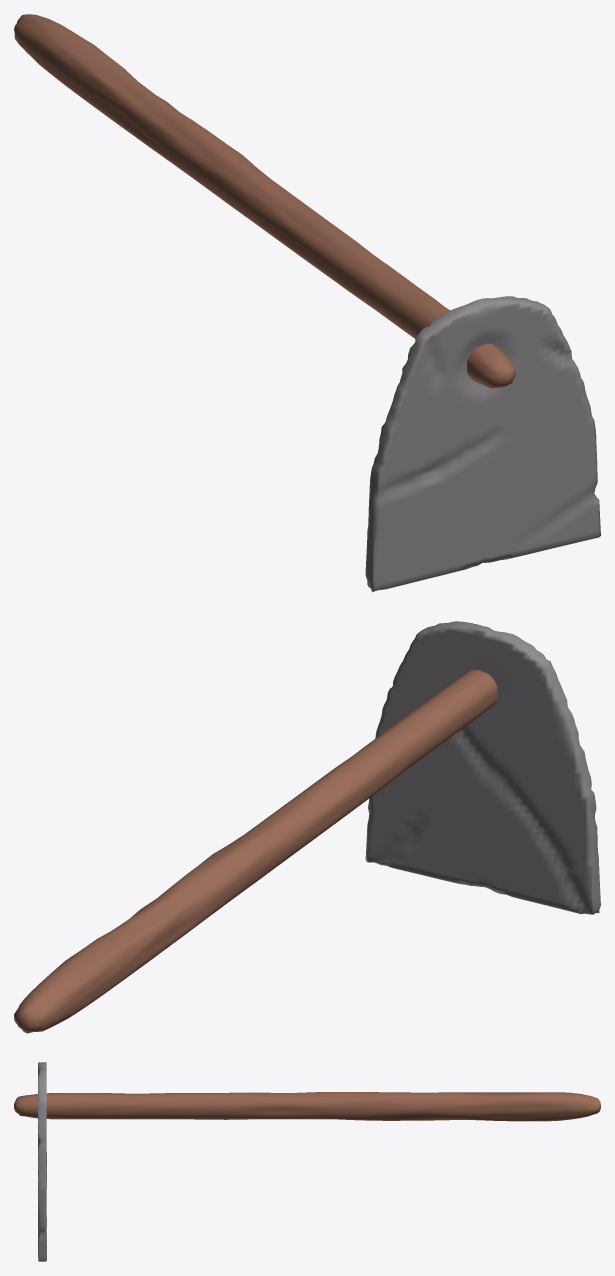
File: hoe2.fbx
3 views of the same model, one above another, from view 1: azimuth 30°, elevation 25°; view 2: azimuth 150°, elevation 25°; view 3: azimuth 270°, elevation 25° (orthographic). The views are drawn at different scales.
Visible parts, largest first — view 1: Hoe.001, Hoe; view 2: Hoe.001, Hoe; view 3: Hoe, Hoe.001.
Boxes of the visible parts, x1,y1,x2,y2 form: Hoe.001: [365, 296, 600, 592]; Hoe: [14, 14, 515, 388]; Hoe.001: [365, 621, 600, 914]; Hoe: [14, 669, 497, 1033]; Hoe: [14, 1092, 600, 1121]; Hoe.001: [38, 1062, 46, 1261].
Bounding box in the file's own units: 200 × 218 × 732.
